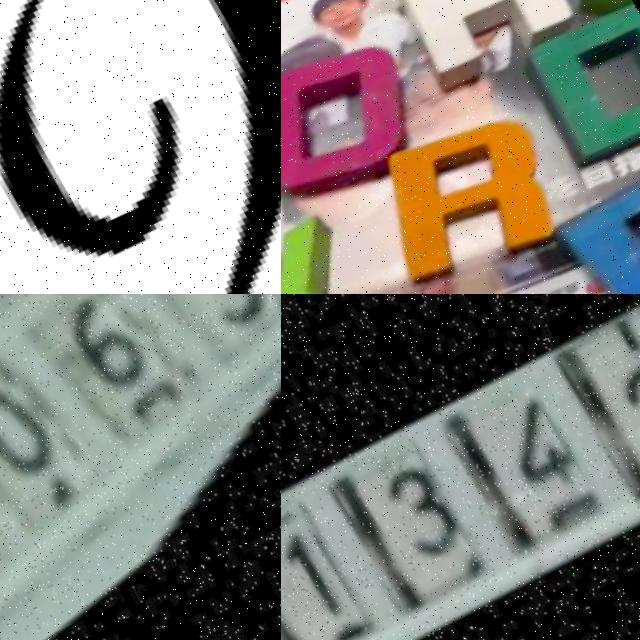0: (0, 342, 80, 515)
1: (281, 508, 354, 633)
2: (0, 0, 281, 294), (590, 333, 640, 468)
3: (350, 440, 468, 574), (139, 294, 281, 352)
4: (461, 369, 589, 510)
6: (20, 294, 177, 425)
B: (543, 130, 640, 294)
D: (500, 0, 640, 172)
H: (375, 0, 590, 92)
O: (281, 15, 445, 217)
R: (346, 82, 576, 294)
Y: (281, 200, 384, 294)
